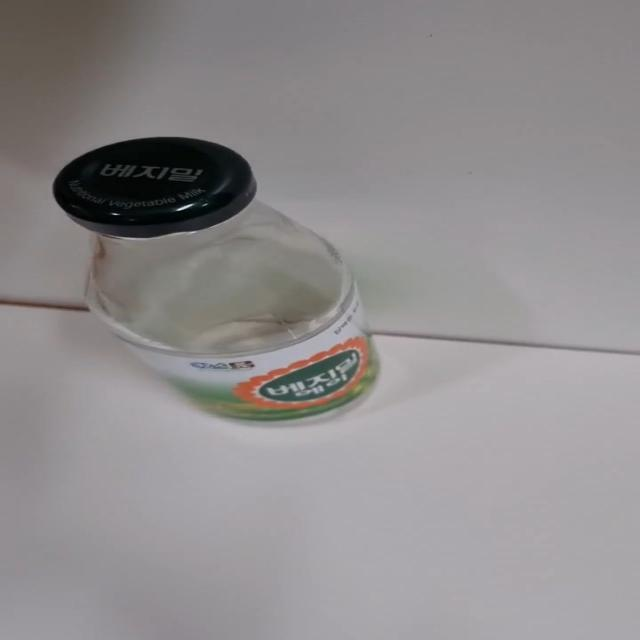Glass: (52, 138, 380, 426)
